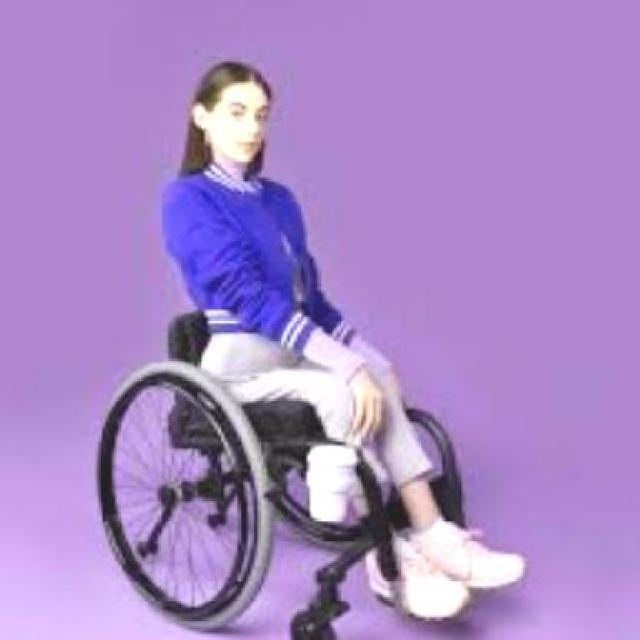wheelchairs: (95, 306, 471, 640)
